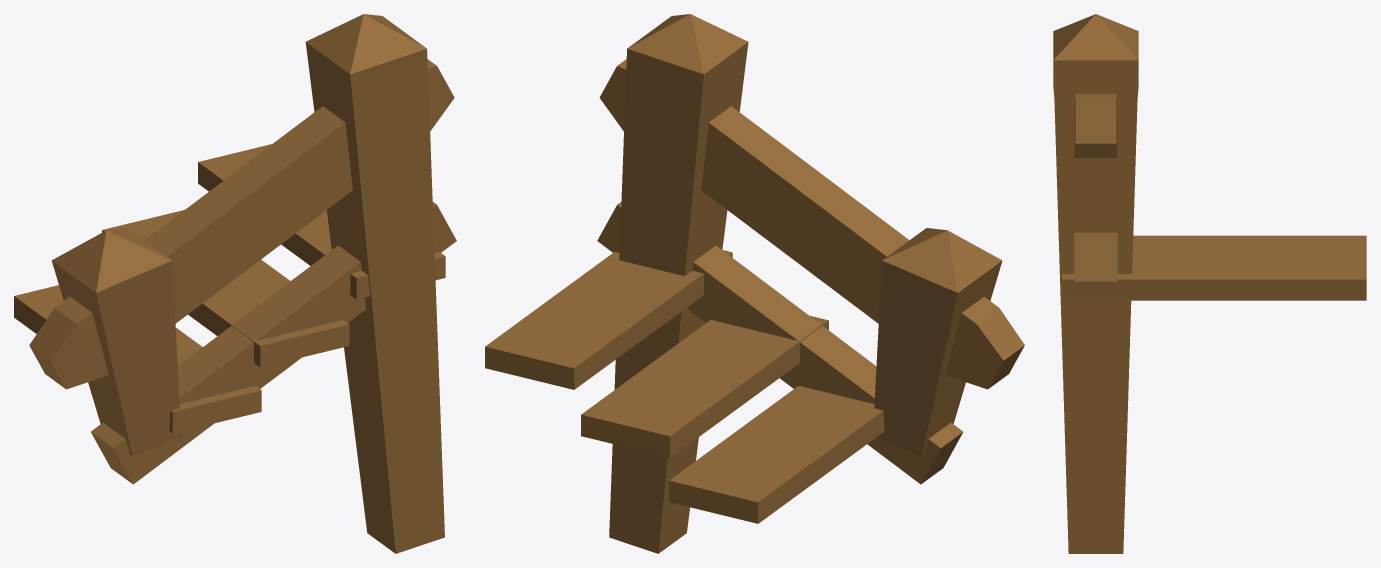
Rendered from wood_deck_01_edge_ramp_R.glb.
3 renders of one model, left to right at view 1: azimuth 30°, elevation 25°; view 2: azimuth 150°, elevation 25°; view 3: azimuth 270°, elevation 25°, orthographic. The views are drawn at different scales.
Visible parts, largest first — view 1: rural_fence_01_plank.007; view 2: rural_fence_01_plank.007; view 3: rural_fence_01_plank.007.
Boxes of the visible parts, x1,y1,x2,y2 form: rural_fence_01_plank.007: [14, 14, 456, 553]; rural_fence_01_plank.007: [485, 14, 1024, 553]; rural_fence_01_plank.007: [1053, 14, 1366, 553].
Bounding box in the file's own units: 2.96 × 3.72 × 2.06.
